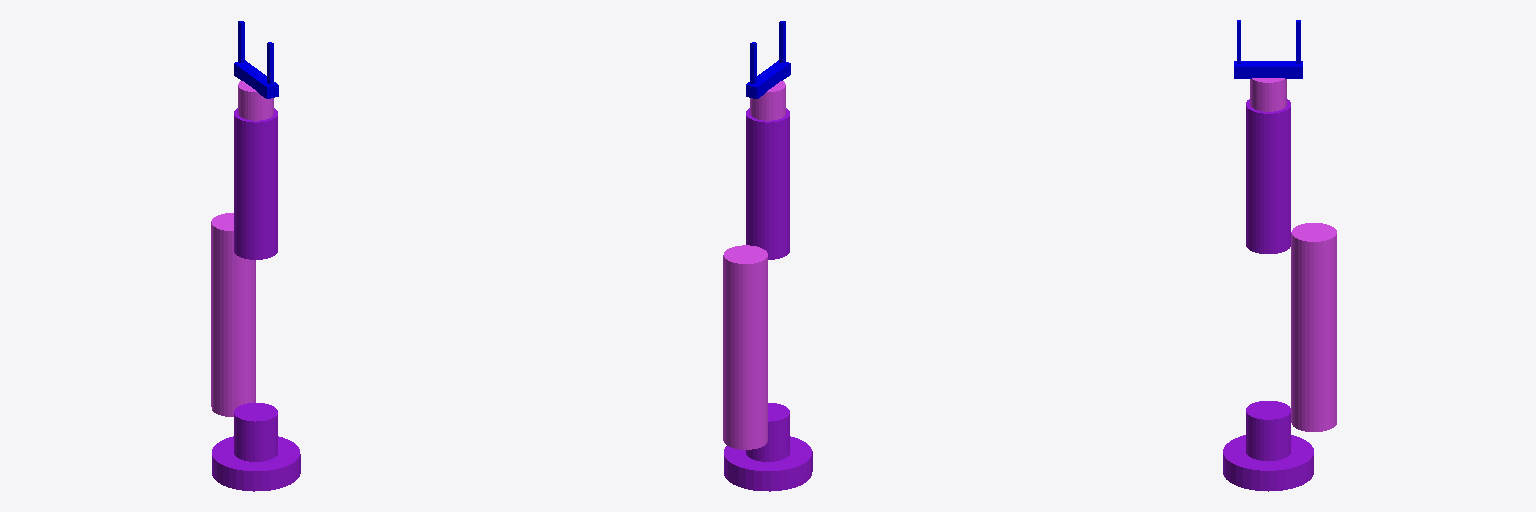
robot.urdf — six_dof_arm:
<?xml version="1.0" ?>
<robot name="six_dof_arm">

  <!-- Base link -->
  <link name="base_link">
    <visual>
      <geometry>
        <cylinder length="0.05" radius="0.1"/>
      </geometry>
      <origin xyz="0.0 0.0 0.025" rpy="0.0 0.0 0.0"/>
      <material name="purple">
        <color rgba="0.64 0.13 0.91 1.0"/>
      </material>
    </visual>
    <collision>
      <geometry>
          <cylinder length="0.05" radius="0.1"/>
      </geometry>
      <origin xyz="0.0 0.0 0.025" rpy="0.0 0.0 0.0"/>
    </collision>

  </link>

  <!-- Joints and links -->

  <link name="link_1">
    <visual>
      <geometry>
        <cylinder length="0.1" radius="0.05"/>
        <!-- <mesh filename="package://robot_simulation/meshes/baza.stl" scale="0.001 0.001 0.001"/> -->
      </geometry>
      <!-- <origin xyz="-0.6 -0.2 -0.022" rpy="0.0 0.0 0.0"/> -->
      <origin xyz="0.0 0.0 0.05" rpy="0.0 0.0 0.0"/>
      <material name="purple">
        <color rgba="0.64 0.13 0.91 1.0"/>
      </material>
    </visual>
    <collision>
      <geometry>
          <cylinder length="0.1" radius="0.05"/>
          <!-- <mesh filename="package://robot_simulation/meshes/baza.stl" scale="0.001 0.001 0.001"/> -->
      </geometry>
      <!-- <origin xyz="-0.1 -0.1 -0.022" rpy="0.0 0.0 0.0"/> -->
      <origin xyz="0.0 0.0 0.05" rpy="0.0 0.0 0.0"/>
    </collision>
  </link>

  <joint name="joint_1" type="revolute">
    <parent link="base_link"/>
    <child link="link_1"/>
    <axis xyz="0 0 1"/>
    <limit lower="-3.14" upper="3.14" effort="1000.0" velocity="0.5"/>
    <origin xyz="0 0 0.05" rpy="0 0 0"/>
  </joint>

  <link name="link_2"> 
    <visual>
      <geometry>
        <!-- <mesh filename="package://robot_simulation/meshes/bark.stl" scale="0.001 0.001 0.001"/> -->
        <cylinder length="0.46" radius="0.05"/>
      </geometry>
      <origin xyz="0.0 0.0 0.23" rpy="0.0 0.0 0.0"/>
      <material name="pink">
        <color rgba="0.902 0.349 0.971 1.0"/>
      </material>
    </visual>
    <collision>
      <geometry>
        <!-- <mesh filename="package://robot_simulation/meshes/bark.stl" scale="0.001 0.001 0.001"/> -->
        <cylinder length="0.46" radius="0.05"/>
      </geometry>
      <origin xyz="0.0 0.0 0.23" rpy="0.0 0.0 0.0"/>
    </collision>
  </link>

  <joint name="joint_2" type="revolute">
    <parent link="link_1"/>
    <child link="link_2"/>
    <axis xyz="0 1 0"/>
    <limit lower="-1.58" upper="1.58" effort="1000.0" velocity="0.5"/>
    <origin xyz="0 0.1 0.07" rpy="0 0 0"/>
  </joint>

  <link name="link_3">
    <visual>
      <geometry>
        <cylinder length="0.340" radius="0.05"/>
      </geometry>
      <origin xyz="0.0 0.0 0.170" rpy="0.0 0.0 0.0"/>
      <material name="purple">
        <color rgba="0.64 0.13 0.91 1.0"/>
      </material>
    </visual>
    <collision>
      <geometry>
          <cylinder length="0.680" radius="0.05"/>
      </geometry>
      <origin xyz="0.0 0.0 0.170" rpy="0.0 0.0 0.0"/>
    </collision>
  </link>

  <joint name="joint_3" type="revolute">
    <parent link="link_2"/>
    <child link="link_3"/>
    <axis xyz="0 1 0"/>
    <limit lower="-2.50" upper="2.50" effort="1000.0" velocity="0.5"/>
    <origin xyz="0 -0.1 0.43" rpy="0 0 0"/>
  </joint>

  <link name="link_4">
    <visual>
      <geometry>
        <cylinder length="0.07" radius="0.04"/>
      </geometry>
      <origin xyz="0.0 0.0 0.0350" rpy="0.0 0.0 0.0"/>
      <material name="pink">
        <color rgba="0.902 0.349 0.971 1.0"/>
      </material>
    </visual>
    <collision>
      <geometry>
          <cylinder length="0.07" radius="0.05"/>
      </geometry>
      <origin xyz="0.0 0.0 0.0350" rpy="0.0 0.0 0.0"/>
    </collision>
  </link>

  <joint name="joint_4" type="revolute">
    <parent link="link_3"/>
    <child link="link_4"/>
    <axis xyz="0 0 1"/>
    <limit lower="-3.14" upper="3.14" effort="1000.0" velocity="0.5"/>
    <origin xyz="0 0 0.340" rpy="0 0 0"/>
  </joint>

  <link name="link_5">
  </link>

  <joint name="joint_5" type="revolute">
    <parent link="link_4"/>
    <child link="link_5"/>
    <axis xyz="1 0 0"/>
    <limit lower="-1.55" upper="1.55" effort="1000.0" velocity="0.5"/>
    <origin xyz="0 0.0 0.070" rpy="0 0 0"/>

  </joint>

  <!-- Build the TCP or end effector -->
  <link name="tcp_connector">
    <visual>
      <geometry>
        <box size="0.03 0.150 0.03"/>
      </geometry>
      <origin xyz="0.0 0.0 0.0125" rpy="0.0 0.0 0.0"/>
      <material name="blue">
        <color rgba="0.0 0.0 1.0 1.0"/>
      </material>
    </visual>
    <collision>
      <geometry>
        <box size="0.03 0.150 0.03"/>      
      </geometry>
      <origin xyz="0.0 0.0 0.0125" rpy="0.0 0.0 0.0"/>
    </collision>
  </link>

  <joint name="joint_6" type="revolute">
    <origin xyz="0 0.0 0.0" rpy="0 0 0"/>
    <parent link="link_5"/>
    <child link="tcp_connector"/>
    <axis xyz="0 0 1"/>
    <limit lower="-3.14" upper="3.14" effort="1000.0" velocity="0.5"/>
  </joint>

  <link name="gripper_right">
    <visual>
      <geometry>
        <box size="0.01 0.01 0.1"/>
      </geometry>
      <origin xyz="0.0 0.0 0.05" rpy="0.0 0.0 0.0"/>
      <material name="blue">
        <color rgba="0.0 0.0 1.0 1.0"/>
      </material>
    </visual>
    <collision>
      <geometry>
        <box size="0.01 0.01 0.1"/>      </geometry>
      <origin xyz="0.0 0.0 0.05" rpy="0.0 0.0 0.0"/>
    </collision>
  </link>

  <joint name="joint_gripper_right" type="prismatic">
    <origin xyz="0 -0.065 0.03" rpy="0 0 0"/>
    <parent link="tcp_connector"/>
    <child link="gripper_right"/>
    <axis xyz="0 1 0"/>
    <limit lower="0" upper="0.055" effort="1000.0" velocity="0.5"/>
  </joint>

  <link name="gripper_left">
    <visual>
      <geometry>
        <box size="0.01 0.01 0.1"/>
      </geometry>
      <origin xyz="0.0 0.0 0.05" rpy="0.0 0.0 0.0"/>
      <material name="blue">
        <color rgba="0.0 0.0 1.0 1.0"/>
      </material>
    </visual>
    <collision>
      <geometry>
        <box size="0.01 0.01 0.1"/>      </geometry>
      <origin xyz="0.0 0.0 0.05" rpy="0.0 0.0 0.0"/>
    </collision>
  </link>

  <joint name="joint_gripper_left" type="prismatic">
    <origin xyz="0 0.065 0.03" rpy="0 0 0"/>
    <parent link="tcp_connector"/>
    <child link="gripper_left"/>
    <axis xyz="0 1 0"/>
    <limit lower="0" upper="0.055" effort="1000.0" velocity="0.5"/>
  </joint>

  <!-- Gripper
  <joint name="gripper_joint" type="fixed">
    <origin xyz="0 0 0.3" rpy="0 0 0"/>
    <parent link="link_6"/>
    <child link="gripper"/>
  </joint>

  <link name="gripper">
    <visual>
      <geometry>
        <box size="0.1 0.1 0.1"/>
      </geometry>
      <material name="grey">
        <color rgba="0.5 0.5 0.5 1.0"/>
      </material>
    </visual>
  </link> -->

</robot>

--- Render facts (derived) ---
Views: 3 orthographic renders of the robot side by side, from view 1: azimuth 30°, elevation 25°; view 2: azimuth 150°, elevation 25°; view 3: azimuth 270°, elevation 25°.
Model six_dof_arm with 9 links and 8 joints (6 revolute, 2 prismatic), rooted at base_link, posed all joints at 0.
Visible links, largest first — view 1: link_2, link_3, base_link, link_1, link_4, tcp_connector; view 2: link_2, link_3, base_link, link_1, link_4, tcp_connector; view 3: link_2, link_3, base_link, link_1, link_4, tcp_connector.
Boxes of the visible links, x1=… form: link_2: x1=211, y1=213, x2=255, y2=416; link_3: x1=234, y1=108, x2=277, y2=259; base_link: x1=212, y1=436, x2=300, y2=491; link_1: x1=234, y1=403, x2=277, y2=461; link_4: x1=238, y1=81, x2=273, y2=120; tcp_connector: x1=234, y1=60, x2=278, y2=98; link_2: x1=723, y1=245, x2=767, y2=449; link_3: x1=746, y1=108, x2=789, y2=259; base_link: x1=724, y1=436, x2=812, y2=491; link_1: x1=746, y1=403, x2=789, y2=461; link_4: x1=750, y1=81, x2=785, y2=120; tcp_connector: x1=746, y1=60, x2=790, y2=98; link_2: x1=1291, y1=223, x2=1336, y2=431; link_3: x1=1246, y1=99, x2=1290, y2=253; base_link: x1=1223, y1=435, x2=1313, y2=491; link_1: x1=1246, y1=401, x2=1290, y2=460; link_4: x1=1250, y1=78, x2=1286, y2=111; tcp_connector: x1=1234, y1=61, x2=1302, y2=78.
Bounding box of the posed robot: 0.2 × 0.25 × 1.09 m (x, y, z).
Geometry: primitives only (box / cylinder / sphere), no mesh files.